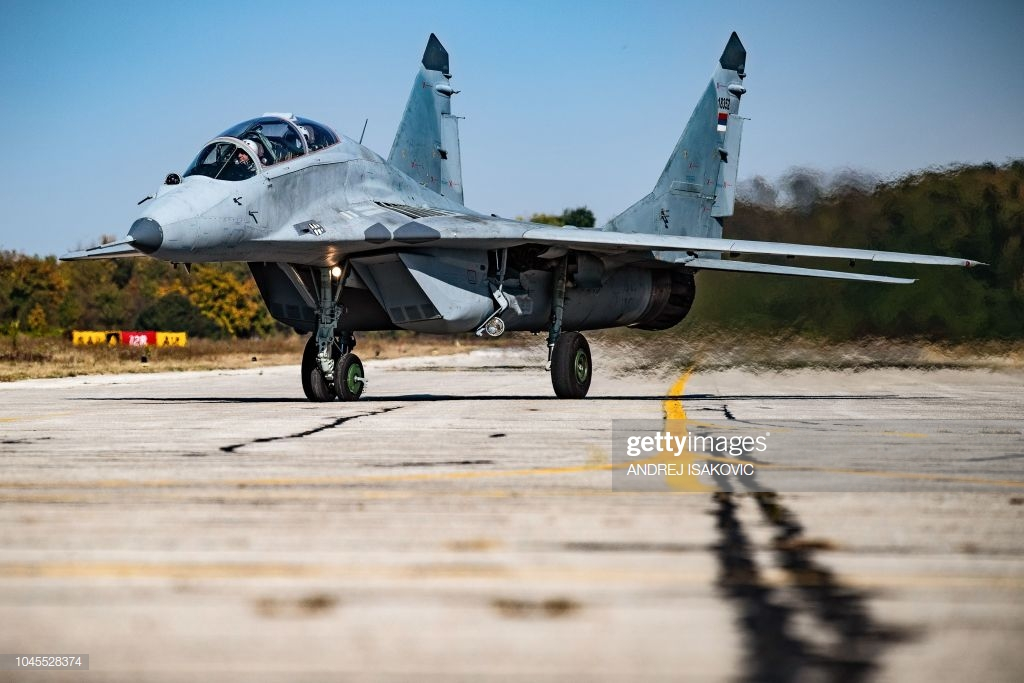Mig-29: (109, 9, 904, 406)
